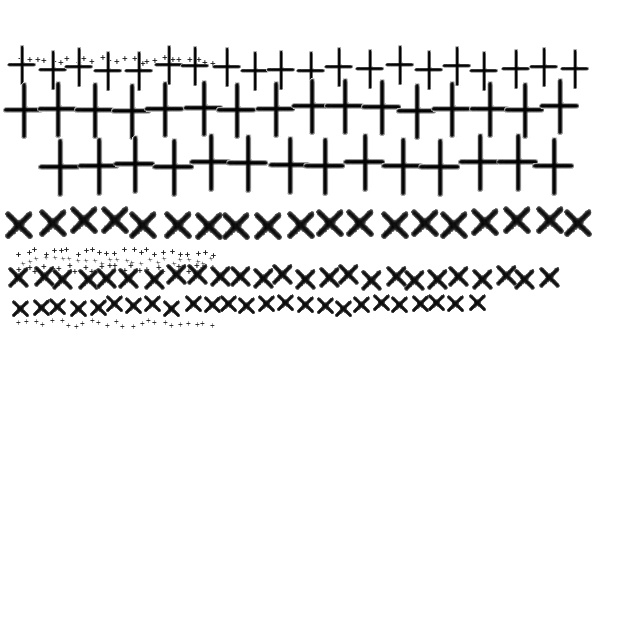double: (74, 137, 122, 197), (110, 135, 158, 195), (186, 133, 234, 193), (300, 137, 348, 197), (340, 133, 388, 193), (378, 137, 426, 197), (36, 138, 82, 198), (150, 138, 196, 198), (224, 134, 270, 194), (266, 136, 312, 196), (416, 138, 462, 198), (456, 133, 502, 193), (494, 133, 540, 193), (530, 137, 576, 197), (34, 81, 80, 139), (108, 83, 154, 141), (180, 80, 226, 138), (252, 81, 298, 139), (288, 78, 334, 136), (358, 79, 404, 137), (428, 81, 474, 139), (466, 81, 512, 139), (536, 78, 582, 136), (0, 82, 44, 140), (72, 82, 116, 140), (142, 81, 186, 139), (214, 82, 258, 140), (322, 78, 366, 136), (394, 83, 438, 141), (502, 82, 546, 140), (36, 50, 68, 92), (178, 46, 210, 88), (264, 50, 296, 92), (412, 50, 444, 92), (440, 46, 472, 88), (5, 46, 37, 86), (62, 48, 94, 88), (91, 52, 123, 92), (122, 52, 154, 92), (152, 46, 184, 86), (210, 48, 242, 88), (238, 52, 270, 92), (294, 52, 326, 92), (322, 48, 354, 88), (353, 50, 385, 90), (383, 46, 415, 86), (467, 52, 499, 92), (499, 50, 531, 90), (527, 48, 559, 88), (558, 50, 590, 90), (2, 206, 36, 242), (36, 204, 70, 240), (67, 201, 101, 237), (98, 201, 132, 237), (126, 206, 160, 242), (161, 206, 195, 242), (192, 207, 226, 243), (219, 207, 253, 243), (251, 207, 285, 243), (284, 206, 318, 242), (313, 204, 347, 240), (343, 204, 377, 240), (378, 206, 412, 242), (408, 204, 442, 240), (437, 206, 471, 242), (468, 203, 502, 239), (500, 201, 534, 237), (533, 201, 567, 237), (561, 204, 595, 240), (32, 262, 58, 290), (94, 264, 120, 292), (116, 264, 142, 292), (164, 260, 190, 288), (208, 262, 234, 290), (228, 262, 254, 290), (270, 260, 296, 288), (336, 260, 362, 288), (384, 262, 410, 290), (402, 266, 428, 294), (446, 262, 472, 290), (6, 264, 32, 290), (50, 266, 76, 292), (76, 266, 102, 292), (142, 266, 168, 292), (470, 266, 496, 292), (494, 262, 520, 288), (512, 266, 538, 292), (186, 260, 210, 288), (252, 264, 276, 292), (360, 266, 384, 294), (294, 266, 318, 292), (318, 264, 342, 290), (426, 266, 450, 292), (538, 264, 562, 290), (10, 297, 32, 319), (68, 297, 90, 319), (88, 296, 110, 318), (104, 292, 126, 314), (142, 292, 164, 314), (202, 293, 224, 315), (218, 292, 240, 314), (236, 294, 258, 316), (256, 292, 278, 314), (410, 292, 432, 314), (426, 291, 448, 313), (32, 296, 52, 318), (48, 295, 68, 317), (124, 294, 144, 316), (162, 297, 182, 319), (184, 292, 204, 314), (276, 291, 296, 313), (296, 293, 316, 315), (316, 294, 336, 316), (334, 297, 354, 319), (352, 293, 372, 315), (372, 291, 392, 313), (390, 293, 410, 315), (446, 292, 466, 314), (468, 291, 488, 313), (18, 56, 24, 62), (41, 58, 47, 64), (58, 60, 64, 66), (64, 56, 70, 62), (76, 60, 82, 66), (81, 56, 87, 62), (106, 58, 112, 64), (122, 56, 128, 62), (132, 56, 138, 62), (152, 58, 158, 64), (202, 60, 208, 66), (16, 252, 22, 258), (44, 252, 50, 258), (52, 248, 58, 254), (76, 252, 82, 258), (84, 248, 90, 254), (152, 252, 158, 258), (178, 252, 184, 258), (33, 256, 39, 262), (60, 256, 66, 262), (66, 256, 72, 262), (75, 258, 81, 264), (83, 258, 89, 264), (92, 258, 98, 264), (124, 258, 130, 264), (129, 260, 135, 266), (155, 260, 161, 266), (161, 256, 167, 262), (208, 256, 214, 262), (41, 264, 47, 270), (50, 266, 56, 272), (56, 266, 62, 272), (99, 264, 105, 270), (122, 268, 128, 274), (137, 268, 143, 274), (176, 264, 182, 270), (16, 320, 22, 326), (40, 322, 46, 328), (50, 318, 56, 324), (60, 318, 66, 324), (74, 324, 80, 330), (90, 318, 96, 324), (96, 320, 102, 326), (120, 324, 126, 330), (146, 318, 152, 324), (152, 320, 158, 326), (178, 322, 184, 328), (27, 58, 33, 62), (35, 58, 41, 62), (51, 60, 57, 64), (89, 60, 95, 64), (100, 56, 106, 60), (114, 60, 120, 64), (140, 62, 146, 66), (144, 60, 150, 64), (162, 56, 168, 60), (170, 58, 176, 62), (176, 58, 182, 62), (187, 58, 193, 62), (196, 58, 202, 62), (210, 62, 216, 66), (28, 250, 32, 256), (32, 248, 38, 252), (60, 248, 64, 254), (64, 248, 70, 252), (90, 248, 96, 252), (98, 250, 102, 256), (104, 252, 110, 256), (112, 252, 118, 256), (122, 248, 128, 252), (132, 248, 138, 252), (140, 250, 144, 256), (144, 248, 150, 252), (162, 250, 166, 256), (170, 250, 176, 254), (186, 252, 190, 258), (196, 252, 202, 256), (204, 250, 208, 256), (20, 262, 26, 266), (27, 260, 33, 264), (43, 256, 49, 260), (52, 256, 58, 260), (99, 262, 105, 266), (107, 258, 113, 262), (114, 258, 120, 262), (138, 262, 144, 266), (147, 258, 153, 262), (171, 262, 177, 266), (177, 258, 183, 262), (186, 258, 192, 262), (195, 260, 201, 264), (200, 262, 206, 266), (16, 268, 22, 272), (27, 266, 33, 270), (32, 270, 38, 274), (67, 264, 73, 268), (72, 270, 78, 274), (83, 266, 89, 270), (89, 270, 95, 274), (107, 264, 113, 268), (112, 264, 118, 268), (128, 264, 134, 268), (144, 268, 150, 272), (156, 266, 162, 270), (160, 270, 166, 274), (172, 270, 178, 274), (186, 270, 192, 274), (194, 264, 200, 268), (200, 266, 206, 270), (210, 266, 216, 270), (24, 320, 30, 324), (34, 320, 40, 324), (66, 324, 72, 328), (80, 322, 86, 326), (114, 320, 120, 324), (132, 324, 136, 330), (140, 322, 146, 326), (164, 320, 168, 326), (186, 322, 192, 326), (196, 322, 200, 328), (200, 322, 206, 326), (210, 324, 216, 328), (212, 254, 216, 258), (106, 324, 110, 328), (170, 324, 174, 328)
